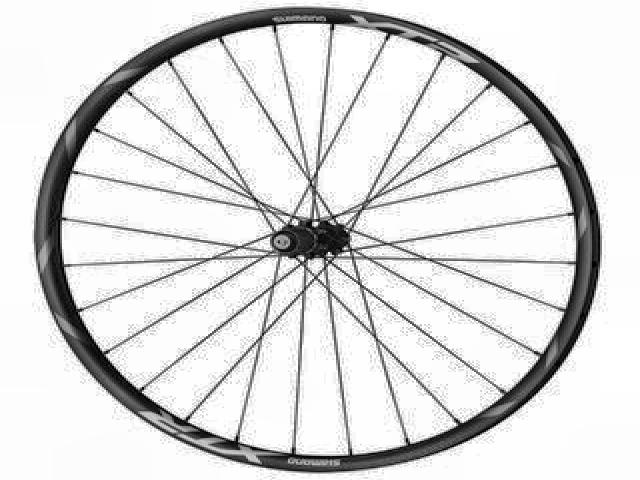wheel: (25, 7, 608, 474)
